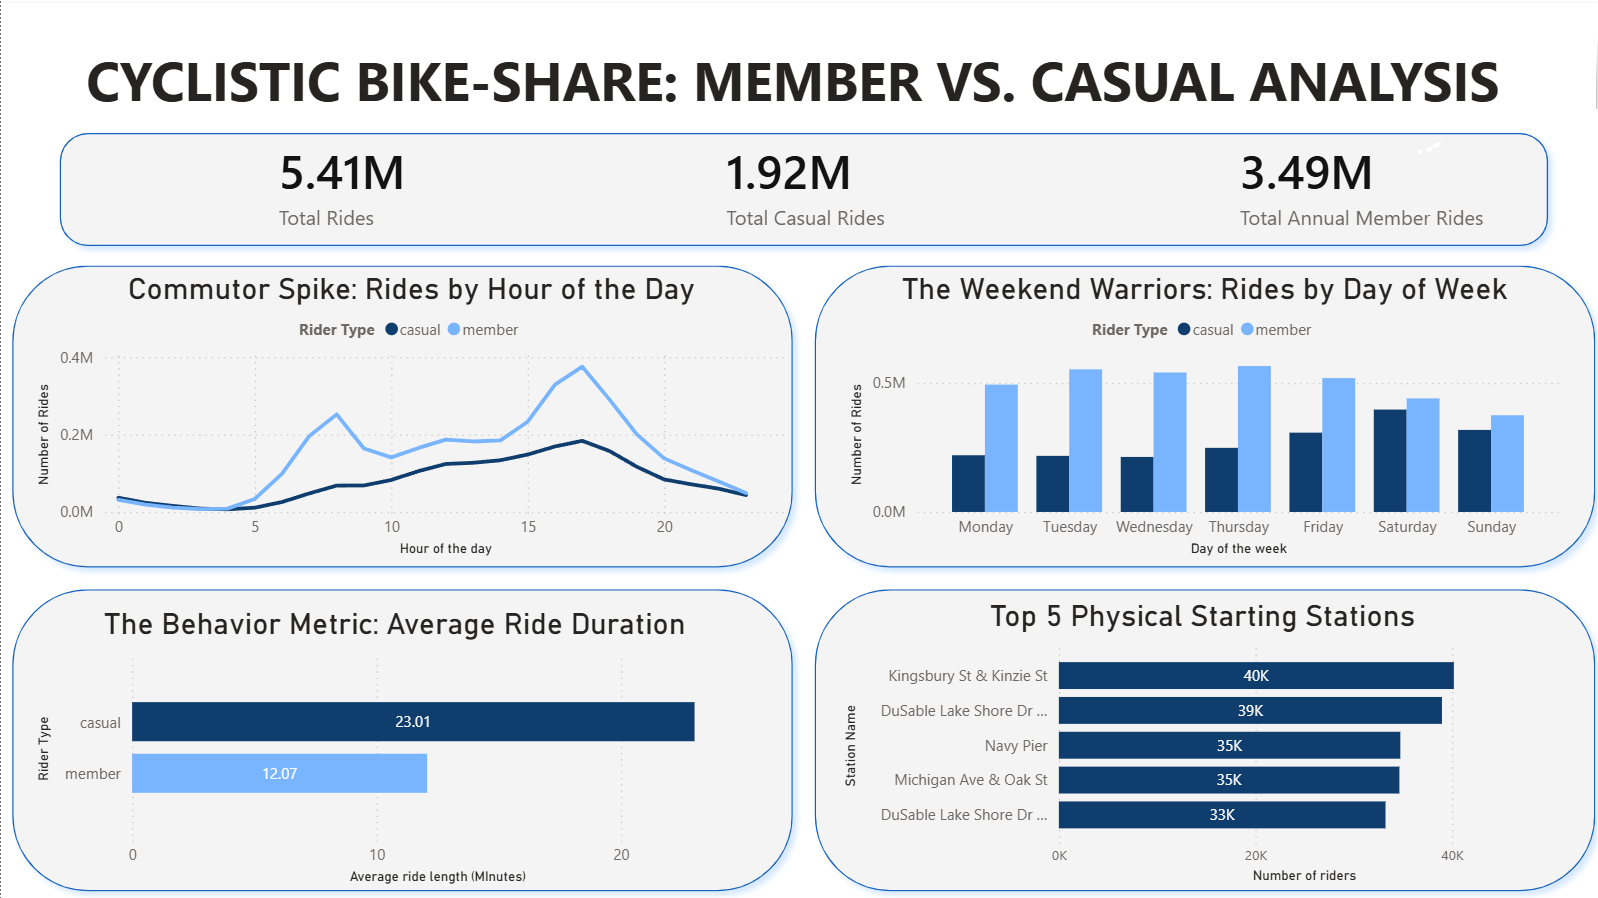

This screenshot's page, from the dashboard's own definition file:
{"tool":"powerbi","page":{"name":"Member vs. Casual Trends","canvas":[1280,720],"ordinal":0},"visuals":[{"type":"group","id":"g1","title":"Background","box":[0,98.7,1280,622.6],"z":0},{"type":"lineChart","title":"Commutor Spike: Rides by Hour of the Day","fields":{"Category":["tripdata_2025_cleaned.ride_hour"],"Y":["CountNonNull(tripdata_2025_cleaned.ride_id)"],"Series":["tripdata_2025_cleaned.member_casual"]},"box":[24.3,217.6,606.8,232.4],"z":2000},{"type":"cardVisual","fields":{"Data":["CountNonNull(tripdata_2025_cleaned.ride_id)"]},"box":[958.1,94.6,273,108.1],"z":3000},{"type":"clusteredColumnChart","title":"The Weekend Warriors: Rides by Day of Week","fields":{"Y":["CountNonNull(tripdata_2025_cleaned.ride_id)"],"Series":["tripdata_2025_cleaned.member_casual"],"Category":["tripdata_2025_cleaned.day_of_week"]},"box":[671.6,217.6,575.7,232.4],"z":4000},{"type":"clusteredBarChart","title":"The Behavior Metric: Average Ride Duration","fields":{"Y":["Avg(tripdata_2025_cleaned.ride_length_minutes)"],"Category":["tripdata_2025_cleaned.member_casual"]},"box":[24.3,483.8,579.7,227],"z":5000},{"type":"textbox","box":[1.8,31.2,1276.3,64.2],"z":6000},{"type":"clusteredBarChart","title":"Top 5 Physical Starting Stations","fields":{"Category":["tripdata_2025_cleaned.start_station_name"],"Y":["CountNonNull(tripdata_2025_cleaned.ride_id)"]},"box":[666.2,478.4,582.4,232.4],"z":7000},{"type":"cardVisual","fields":{"Data":["CountNonNull(tripdata_2025_cleaned.ride_id)"]},"box":[548.8,94.2,272.1,108.1],"z":8000},{"type":"cardVisual","fields":{"Data":["Count(tripdata_2025_cleaned.ride_id)"]},"box":[191.9,94.2,229.1,108.1],"z":9000},{"type":"shape","box":[0,204.1,640,258.6],"z":9000,"group":"g1"},{"type":"shape","box":[37.8,98.7,1204.1,108.1],"z":9500,"group":"g1"},{"type":"shape","box":[0,462.7,640,258.6],"z":10000,"group":"g1"},{"type":"shape","box":[640,204.1,640,258.6],"z":11000,"group":"g1"},{"type":"shape","box":[640,462.7,640,258.6],"z":12000,"group":"g1"}]}

Visuals, with their boxes in screenshot pixels (x1, y1, x2, y2), scaled from the page's 1280x720 canvas onto the 1598x898 screenshot:
"Background" group: {"x1": 0, "y1": 123, "x2": 1597, "y2": 897}
"Commutor Spike: Rides by Hour of the Day" lineChart: {"x1": 30, "y1": 271, "x2": 788, "y2": 561}
cardVisual - CountNonNull(tripdata_2025_cleaned.ride_id): {"x1": 1196, "y1": 118, "x2": 1537, "y2": 253}
"The Weekend Warriors: Rides by Day of Week" clusteredColumnChart: {"x1": 838, "y1": 271, "x2": 1557, "y2": 561}
"The Behavior Metric: Average Ride Duration" clusteredBarChart: {"x1": 30, "y1": 603, "x2": 754, "y2": 887}
textbox: {"x1": 2, "y1": 39, "x2": 1596, "y2": 119}
"Top 5 Physical Starting Stations" clusteredBarChart: {"x1": 832, "y1": 597, "x2": 1559, "y2": 887}
cardVisual - CountNonNull(tripdata_2025_cleaned.ride_id): {"x1": 685, "y1": 117, "x2": 1025, "y2": 252}
cardVisual - Count(tripdata_2025_cleaned.ride_id): {"x1": 240, "y1": 117, "x2": 526, "y2": 252}
shape: {"x1": 0, "y1": 255, "x2": 799, "y2": 577}
shape: {"x1": 47, "y1": 123, "x2": 1550, "y2": 258}
shape: {"x1": 0, "y1": 577, "x2": 799, "y2": 897}
shape: {"x1": 799, "y1": 255, "x2": 1597, "y2": 577}
shape: {"x1": 799, "y1": 577, "x2": 1597, "y2": 897}
